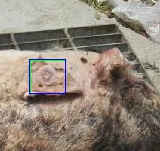text: (30, 60, 65, 93)
